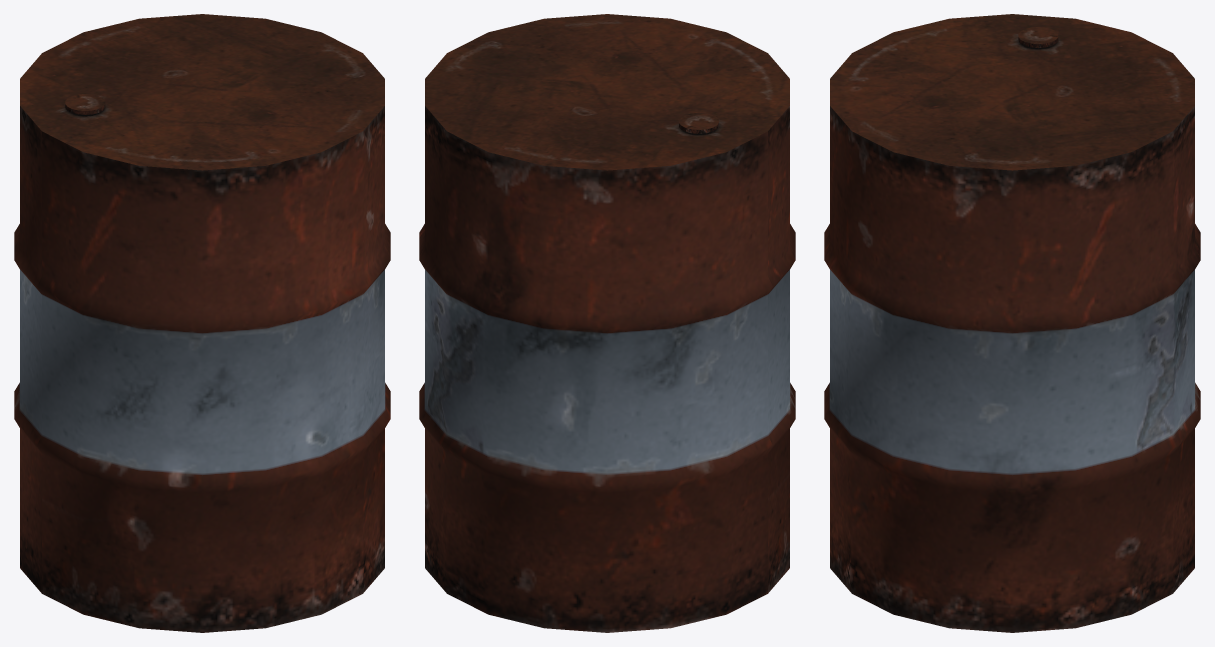
Rendered from Barrel.fbx.
3 views of the same model, side by side, from view 1: azimuth 30°, elevation 25°; view 2: azimuth 150°, elevation 25°; view 3: azimuth 270°, elevation 25° (orthographic).
Visible parts, largest first — view 1: Barrel; view 2: Barrel; view 3: Barrel.
Boxes of the visible parts, x1,y1,x2,y2 form: Barrel: [14, 14, 390, 632]; Barrel: [419, 14, 795, 632]; Barrel: [824, 14, 1200, 632].
Bounding box in the file's own units: 379 × 513 × 374.
Materials: 1 (1 with a texture image).
